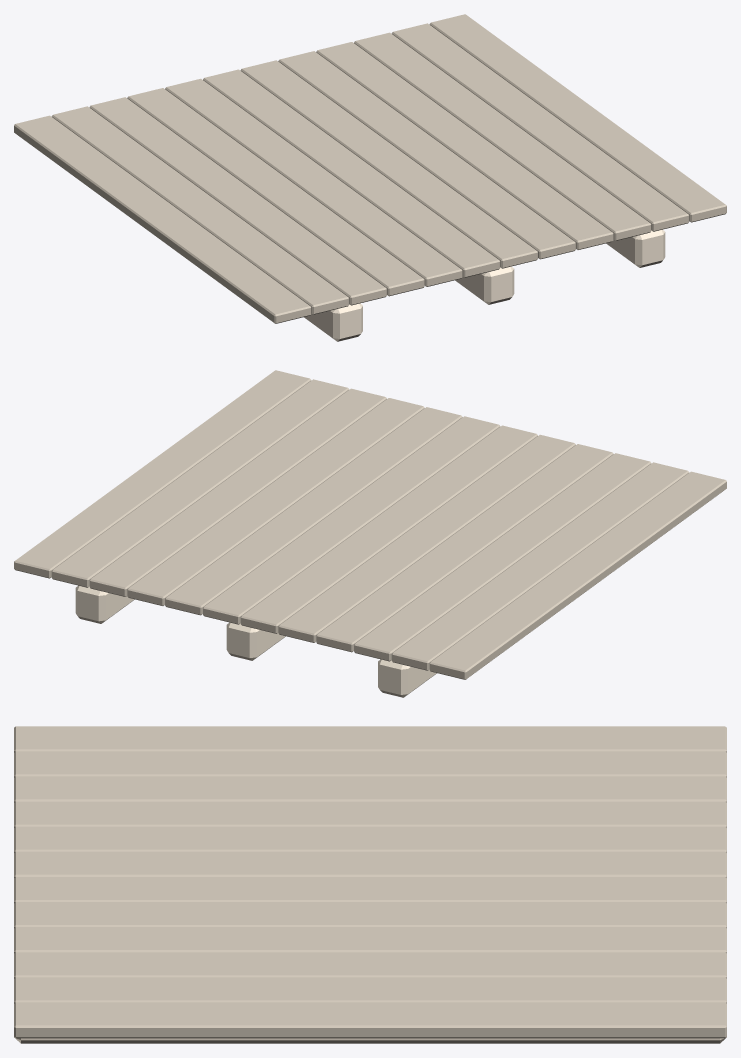
File: SM_VK_Ceiling_Cell.fbx
3 views of the same model, one above another, from view 1: azimuth 30°, elevation 25°; view 2: azimuth 150°, elevation 25°; view 3: azimuth 270°, elevation 25° (orthographic). The views are drawn at different scales.
Visible parts, largest first — view 1: SM_VK_Ceiling_Cell.001; view 2: SM_VK_Ceiling_Cell.001; view 3: SM_VK_Ceiling_Cell.001.
Part boxes in pixels (x1,y1,x2,y2): SM_VK_Ceiling_Cell.001: (14,14,726,341); SM_VK_Ceiling_Cell.001: (14,370,726,697); SM_VK_Ceiling_Cell.001: (14,726,726,1043).
Bounding box in the file's own units: 2.99 × 0.28 × 3.
